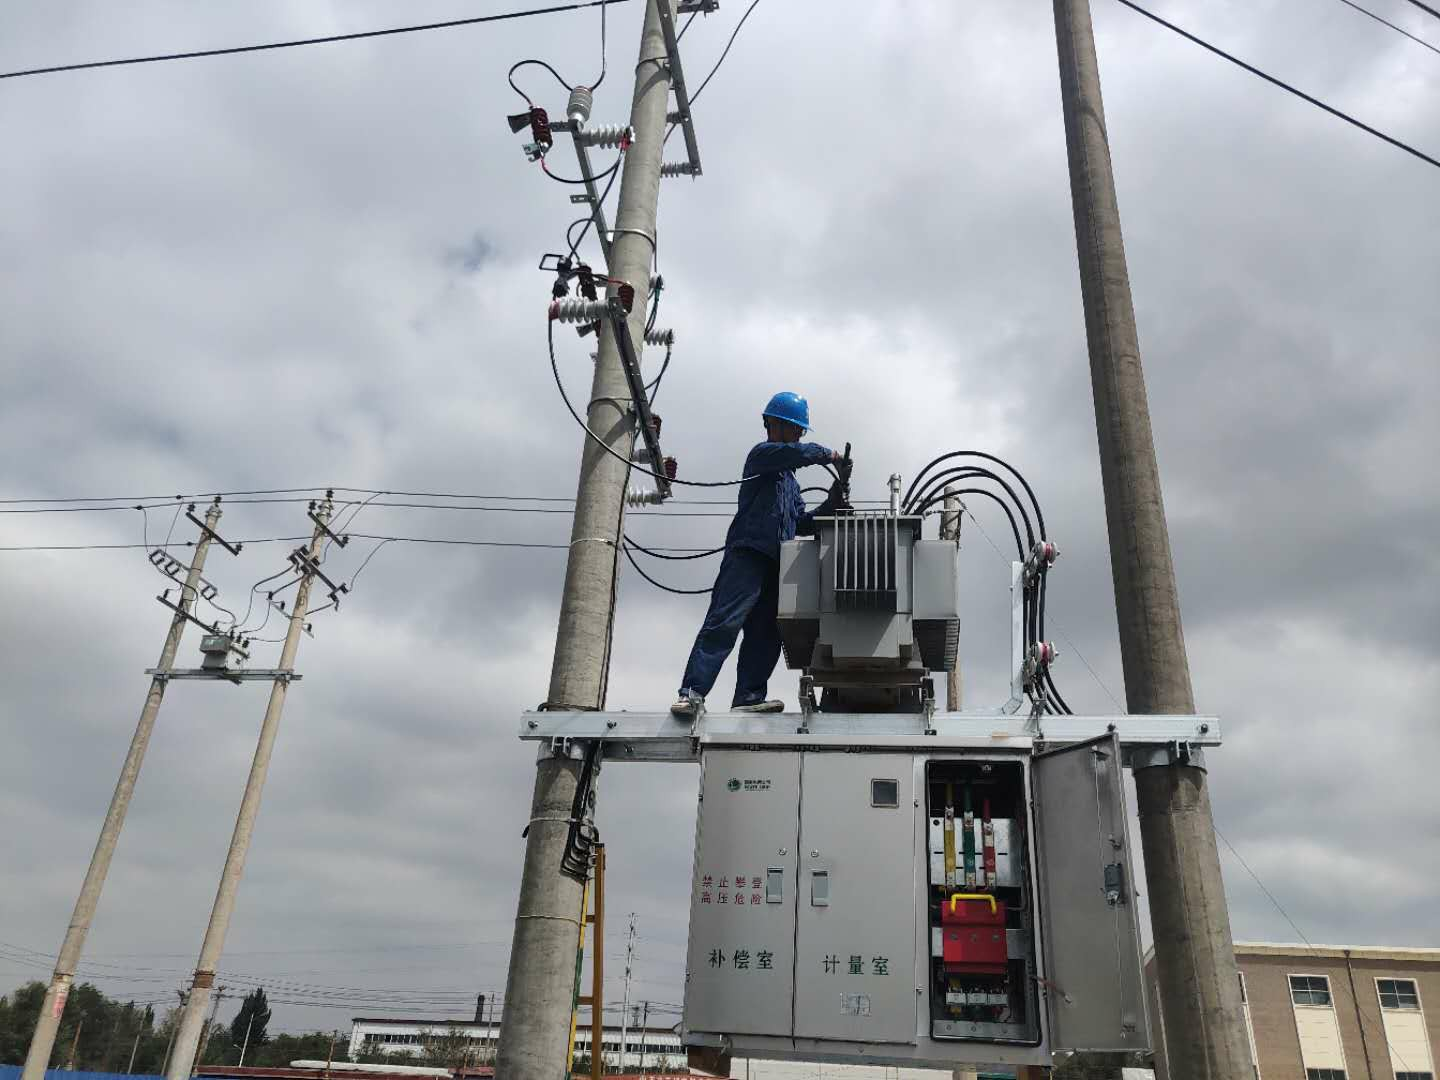hat: (757, 386, 814, 447)
